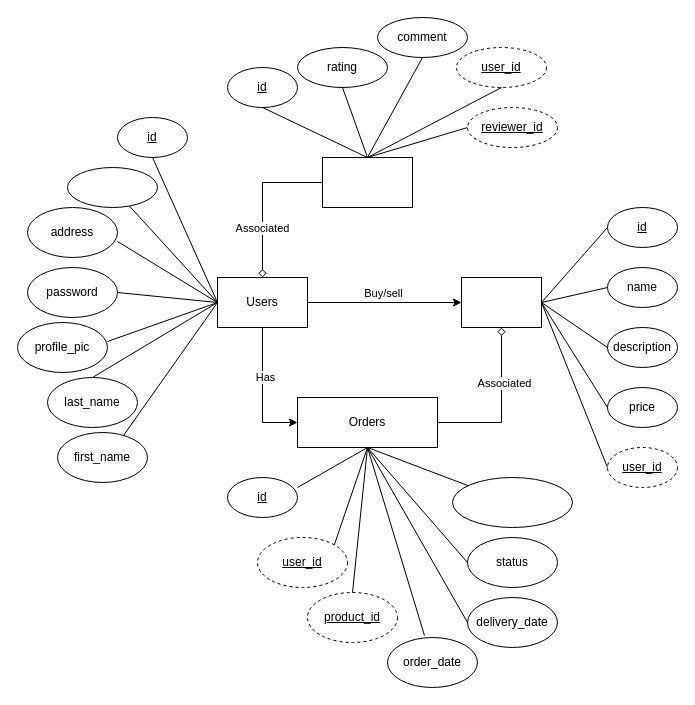
Some shapes in this 695 by 705 pixel diagram are drawn without their labels. The shapes that lost their labels are listed below. From the top down, each one's centre as x and y in pixels, then its label:
At pixel 112 187: "email".
At pixel 367 182: "Reviews".
At pixel 501 302: "Products".
At pixel 512 502: "payment_method".
